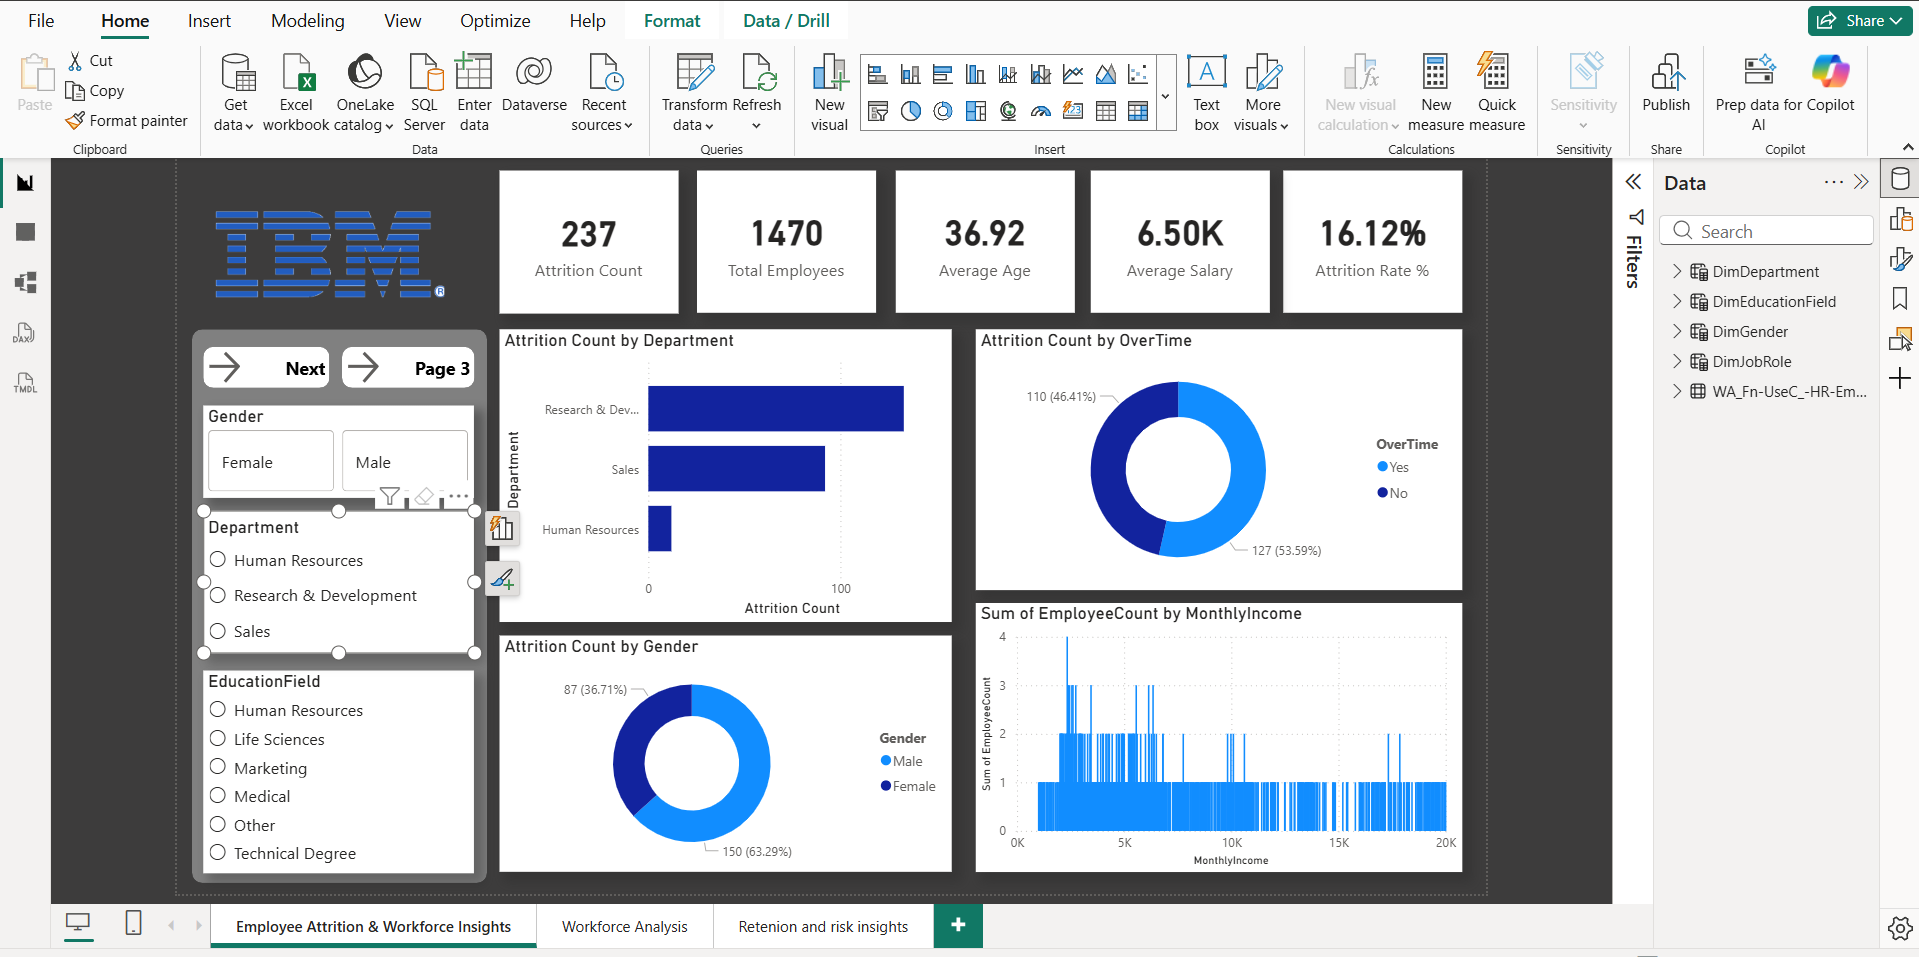

What the dashboard file says about the page in this screenshot:
{"tool":"powerbi","page":{"name":"Employee Attrition & Workforce Insights","canvas":[1280,720],"ordinal":0},"visuals":[{"type":"shape","box":[14.7,167.5,288.6,541.7],"z":0},{"type":"card","fields":{"Values":["WA_Fn-UseC_-HR-Employee-Attrition.Attrition Count"]},"box":[315.5,12.2,175,140],"z":1000},{"type":"card","fields":{"Values":["WA_Fn-UseC_-HR-Employee-Attrition.Attrition Rate %"]},"box":[1082.2,12.2,174.9,139.4],"z":2000},{"type":"card","fields":{"Values":["WA_Fn-UseC_-HR-Employee-Attrition.Average Age"]},"box":[703.1,12.2,174.9,139.4],"z":3000},{"type":"card","fields":{"Values":["WA_Fn-UseC_-HR-Employee-Attrition.Average Salary"]},"box":[893.9,12.2,174.9,139.4],"z":4000},{"type":"card","fields":{"Values":["WA_Fn-UseC_-HR-Employee-Attrition.Total Employees"]},"box":[508.7,12.2,174.9,139.4],"z":5000},{"type":"image","box":[36.7,0,225,184.6],"z":6000},{"type":"clusteredBarChart","fields":{"Category":["WA_Fn-UseC_-HR-Employee-Attrition.Department"],"Y":["WA_Fn-UseC_-HR-Employee-Attrition.Attrition Count"]},"box":[315.5,167.5,442.7,286.1],"z":7000},{"type":"donutChart","fields":{"Y":["WA_Fn-UseC_-HR-Employee-Attrition.Attrition Count"],"Category":["WA_Fn-UseC_-HR-Employee-Attrition.OverTime"]},"box":[781.4,167.5,475.7,255.6],"z":8000},{"type":"donutChart","fields":{"Y":["WA_Fn-UseC_-HR-Employee-Attrition.Attrition Count"],"Category":["WA_Fn-UseC_-HR-Employee-Attrition.Gender"]},"box":[315.5,467.1,442.7,231.1],"z":9000},{"type":"columnChart","fields":{"Y":["Sum(WA_Fn-UseC_-HR-Employee-Attrition.EmployeeCount)"],"Category":["WA_Fn-UseC_-HR-Employee-Attrition.MonthlyIncome"]},"box":[781.4,435.3,475.7,262.9],"z":10000},{"type":"advancedSlicerVisual","fields":{"Values":["WA_Fn-UseC_-HR-Employee-Attrition.Gender"]},"box":[25.9,242.3,264.9,90.2],"z":11000},{"type":"listSlicer","fields":{"Values":["WA_Fn-UseC_-HR-Employee-Attrition.Department"]},"box":[25.9,344.9,264.9,139.8],"z":12000},{"type":"listSlicer","fields":{"Values":["WA_Fn-UseC_-HR-Employee-Attrition.EducationField"]},"box":[25.9,501.6,264.9,198.4],"z":13000},{"type":"actionButton","box":[25.7,184.6,123.5,40.4],"z":13001},{"type":"actionButton","box":[161.4,184.6,129.6,40.4],"z":13002}]}

Visuals, with their boxes on the page's 1280x720 design canvas (x1, y1, x2, y2). These are canvas units, not pixel positions in the 1919x957 screenshot, which may show the page scaled, cropped or inside an application window:
shape: [left=15, top=168, right=303, bottom=709]
card - WA_Fn-UseC_-HR-Employee-Attrition.Attrition Count: [left=316, top=12, right=490, bottom=152]
card - WA_Fn-UseC_-HR-Employee-Attrition.Attrition Rate %: [left=1082, top=12, right=1257, bottom=152]
card - WA_Fn-UseC_-HR-Employee-Attrition.Average Age: [left=703, top=12, right=878, bottom=152]
card - WA_Fn-UseC_-HR-Employee-Attrition.Average Salary: [left=894, top=12, right=1069, bottom=152]
card - WA_Fn-UseC_-HR-Employee-Attrition.Total Employees: [left=509, top=12, right=684, bottom=152]
image: [left=37, top=0, right=262, bottom=185]
clusteredBarChart - WA_Fn-UseC_-HR-Employee-Attrition.Department x WA_Fn-UseC_-HR-Employee-Attrition.Attrition Count: [left=316, top=168, right=758, bottom=454]
donutChart - WA_Fn-UseC_-HR-Employee-Attrition.Attrition Count x WA_Fn-UseC_-HR-Employee-Attrition.OverTime: [left=781, top=168, right=1257, bottom=423]
donutChart - WA_Fn-UseC_-HR-Employee-Attrition.Attrition Count x WA_Fn-UseC_-HR-Employee-Attrition.Gender: [left=316, top=467, right=758, bottom=698]
columnChart - Sum(WA_Fn-UseC_-HR-Employee-Attrition.EmployeeCount) x WA_Fn-UseC_-HR-Employee-Attrition.MonthlyIncome: [left=781, top=435, right=1257, bottom=698]
advancedSlicerVisual - WA_Fn-UseC_-HR-Employee-Attrition.Gender: [left=26, top=242, right=291, bottom=332]
listSlicer - WA_Fn-UseC_-HR-Employee-Attrition.Department: [left=26, top=345, right=291, bottom=485]
listSlicer - WA_Fn-UseC_-HR-Employee-Attrition.EducationField: [left=26, top=502, right=291, bottom=700]
actionButton: [left=26, top=185, right=149, bottom=225]
actionButton: [left=161, top=185, right=291, bottom=225]
